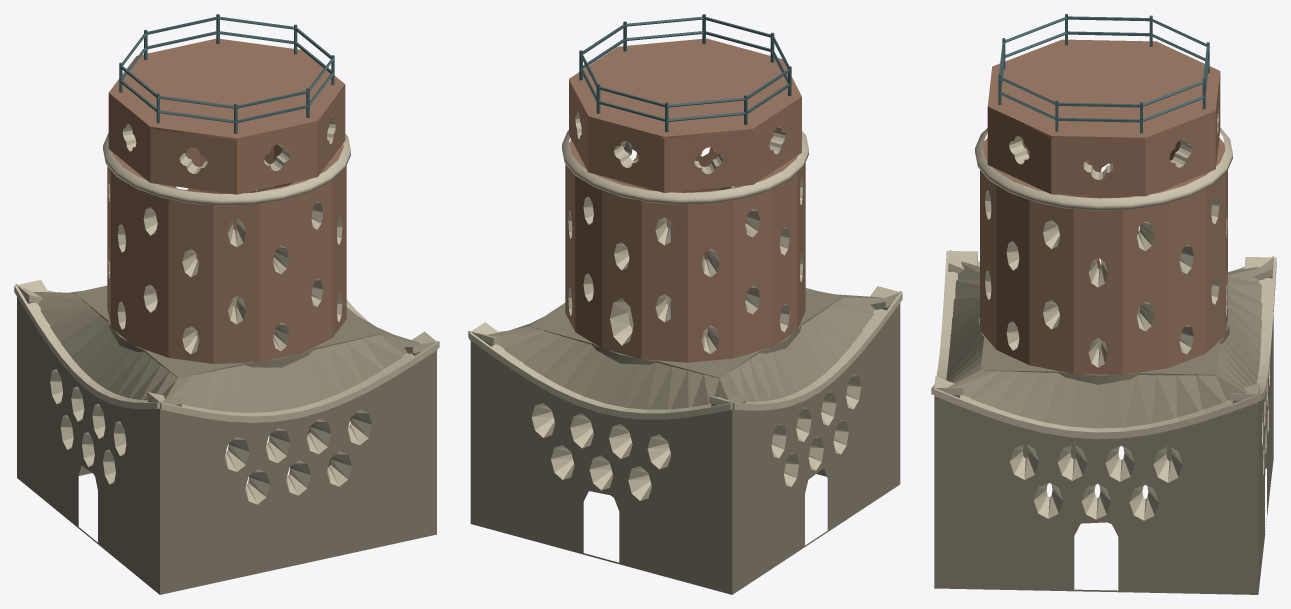
The model's file is fortin-heredia-near.glb.
3 views of the same model, side by side, from view 1: azimuth 30°, elevation 25°; view 2: azimuth 150°, elevation 25°; view 3: azimuth 270°, elevation 25° (orthographic). The views are drawn at different scales.
Parts seen in each view (by area): view 1: fortin-heredia-0-stone, fortin-heredia-0-brick, fortin-heredia-0-trim, fortin-heredia-0-rail, fortin-heredia-0-metal; view 2: fortin-heredia-0-stone, fortin-heredia-0-brick, fortin-heredia-0-trim, fortin-heredia-0-rail, fortin-heredia-0-metal; view 3: fortin-heredia-0-stone, fortin-heredia-0-brick, fortin-heredia-0-trim, fortin-heredia-0-rail, fortin-heredia-0-metal.
Boxes of the visible parts, x1,y1,x2,y2 form: fortin-heredia-0-stone: (17,285,436,594); fortin-heredia-0-brick: (107,38,346,363); fortin-heredia-0-trim: (14,116,439,504); fortin-heredia-0-rail: (120,16,334,123); fortin-heredia-0-metal: (119,14,334,133); fortin-heredia-0-stone: (470,288,900,594); fortin-heredia-0-brick: (565,38,805,362); fortin-heredia-0-trim: (468,111,902,500); fortin-heredia-0-rail: (579,16,789,121); fortin-heredia-0-metal: (579,14,791,132); fortin-heredia-0-stone: (934,261,1273,594); fortin-heredia-0-brick: (980,39,1227,374); fortin-heredia-0-trim: (931,106,1276,520); fortin-heredia-0-rail: (999,16,1209,122); fortin-heredia-0-metal: (998,14,1209,133).
Size of the model in its own units: 9.37 by 13.9 by 9.37.
